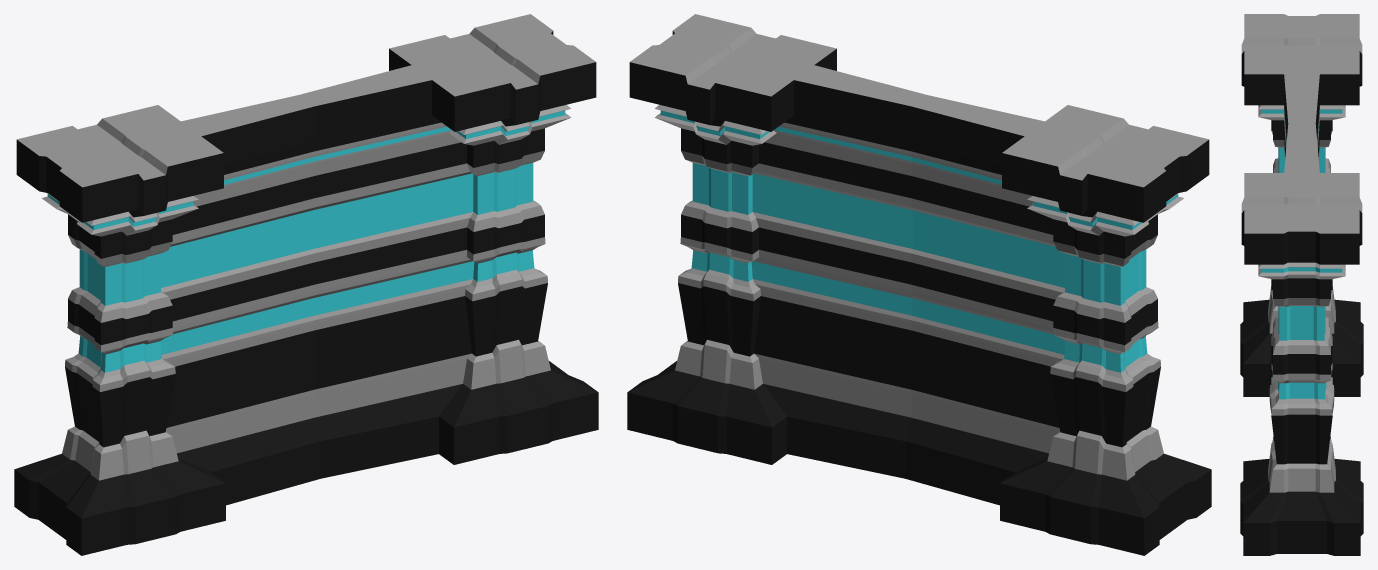
File: Pillar Wall.fbx
The picture shows the model from 3 angles, left to right: view 1: azimuth 30°, elevation 25°; view 2: azimuth 150°, elevation 25°; view 3: azimuth 270°, elevation 25°; orthographic projection. The views are drawn at different scales.
Visible parts, largest first — view 1: Cube; view 2: Cube; view 3: Cube.
Part boxes in pixels (x1=…): Cube: x1=14, y1=14, x2=598, y2=555; Cube: x1=627, y1=14, x2=1211, y2=555; Cube: x1=1240, y1=14, x2=1363, y2=555.
Size of the model in its own units: 1797 by 1221 by 424.
